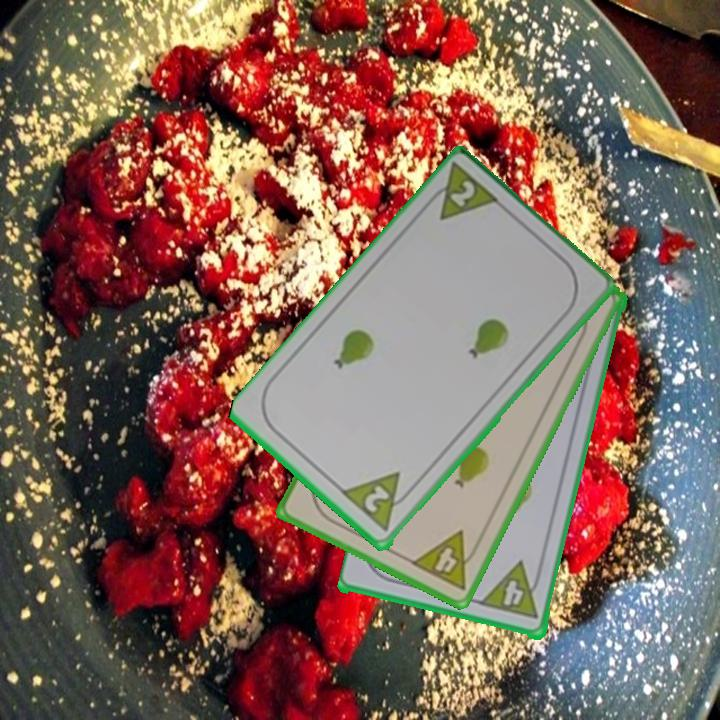2p: (339, 468, 418, 536), (446, 177, 478, 211)
4p: (407, 527, 485, 594), (478, 559, 528, 612)
